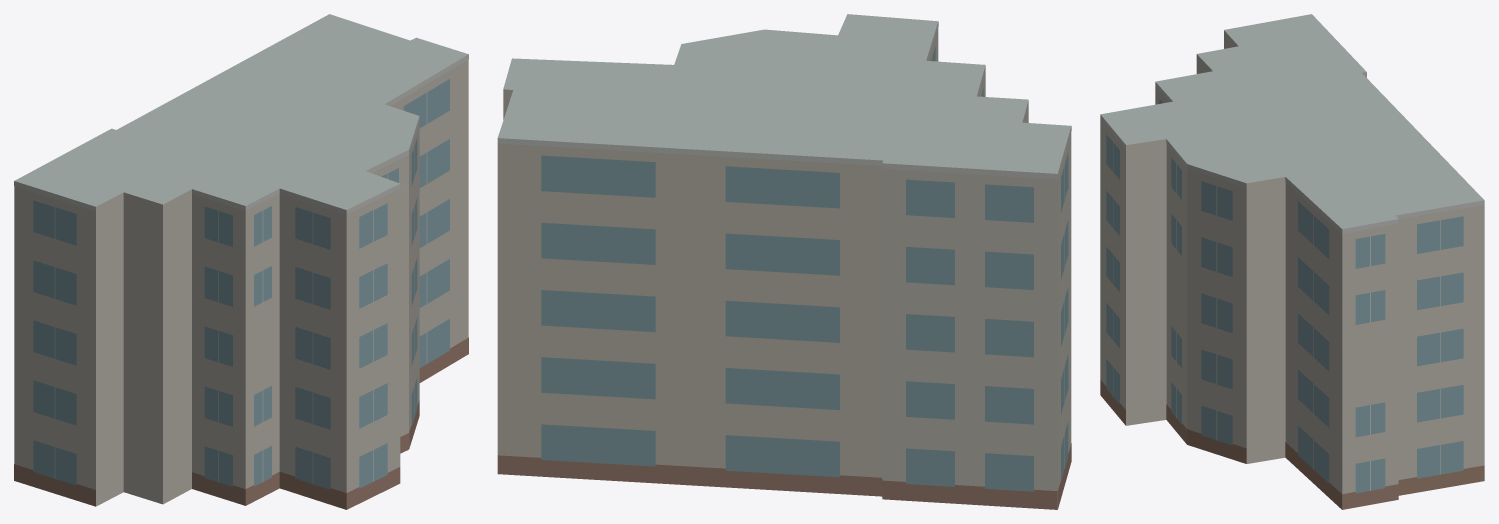
Rendered from survey-upis-32592009.glb.
3 views of the same model, side by side, from view 1: azimuth 30°, elevation 25°; view 2: azimuth 150°, elevation 25°; view 3: azimuth 270°, elevation 25° (orthographic). The views are drawn at different scales.
Parts seen in each view (by area): view 1: survey-upis-32592009.tmp; view 2: survey-upis-32592009.tmp; view 3: survey-upis-32592009.tmp.
Boxes of the visible parts, left/top/right/bottom form: survey-upis-32592009.tmp: left=14, top=14, right=468, bottom=509; survey-upis-32592009.tmp: left=497, top=14, right=1071, bottom=509; survey-upis-32592009.tmp: left=1100, top=14, right=1484, bottom=509.
Bounding box in the file's own units: 24.5 × 14.9 × 18.49.
